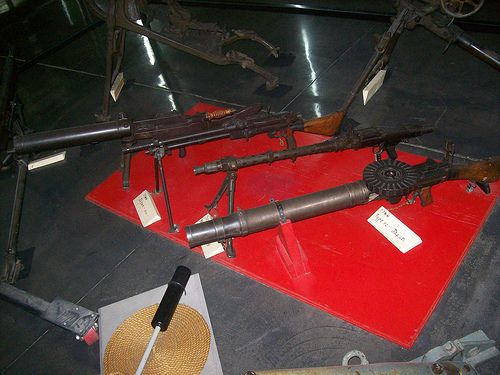rifle: (182, 177, 493, 253), (116, 108, 301, 174), (190, 133, 401, 181)
